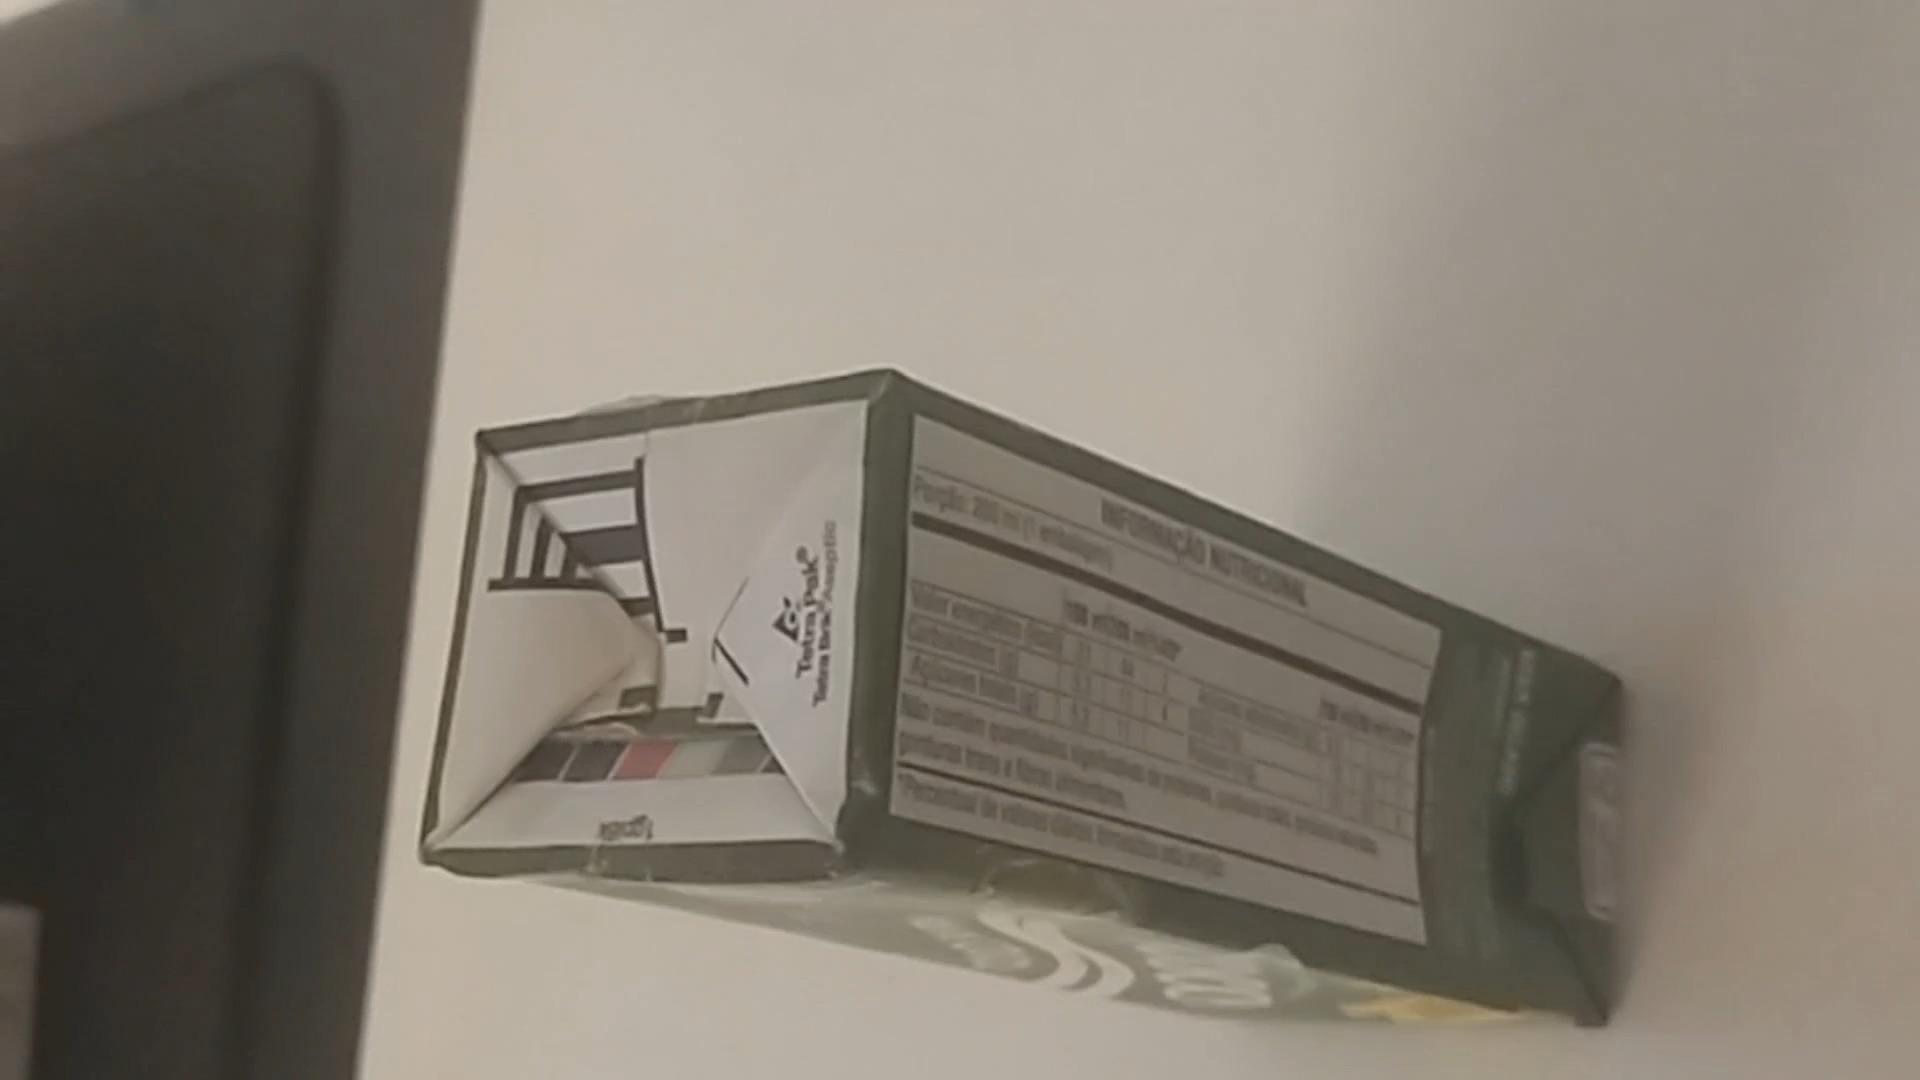coco: (410, 355, 1643, 1038)
